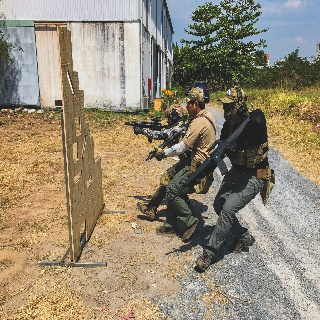rifle: (172, 114, 253, 195), (144, 126, 188, 163), (124, 117, 172, 144)
